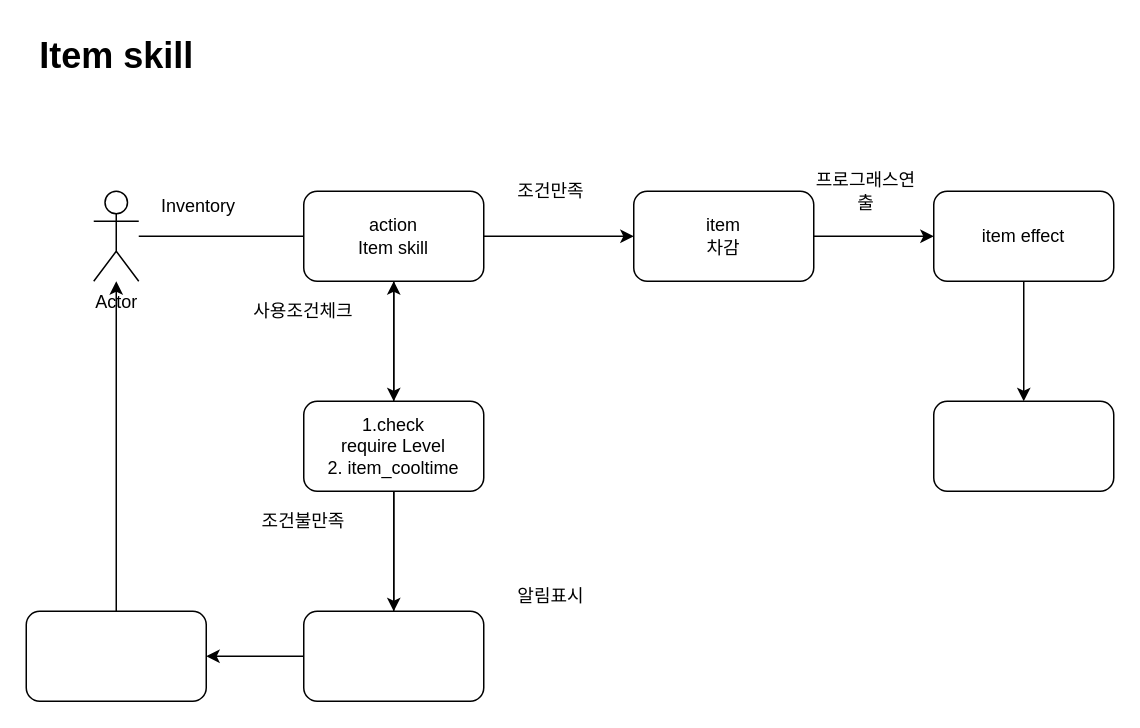
The diagram is 1140 pixels wide and 728 high, and some of its shapes have lost their labels. Here are the shapes that lost their labels. From the top down, the box of each, then its label:
(932, 400, 1114, 491): Notice Result
(25, 610, 206, 701): Notice massage
(302, 610, 484, 701): inactive
